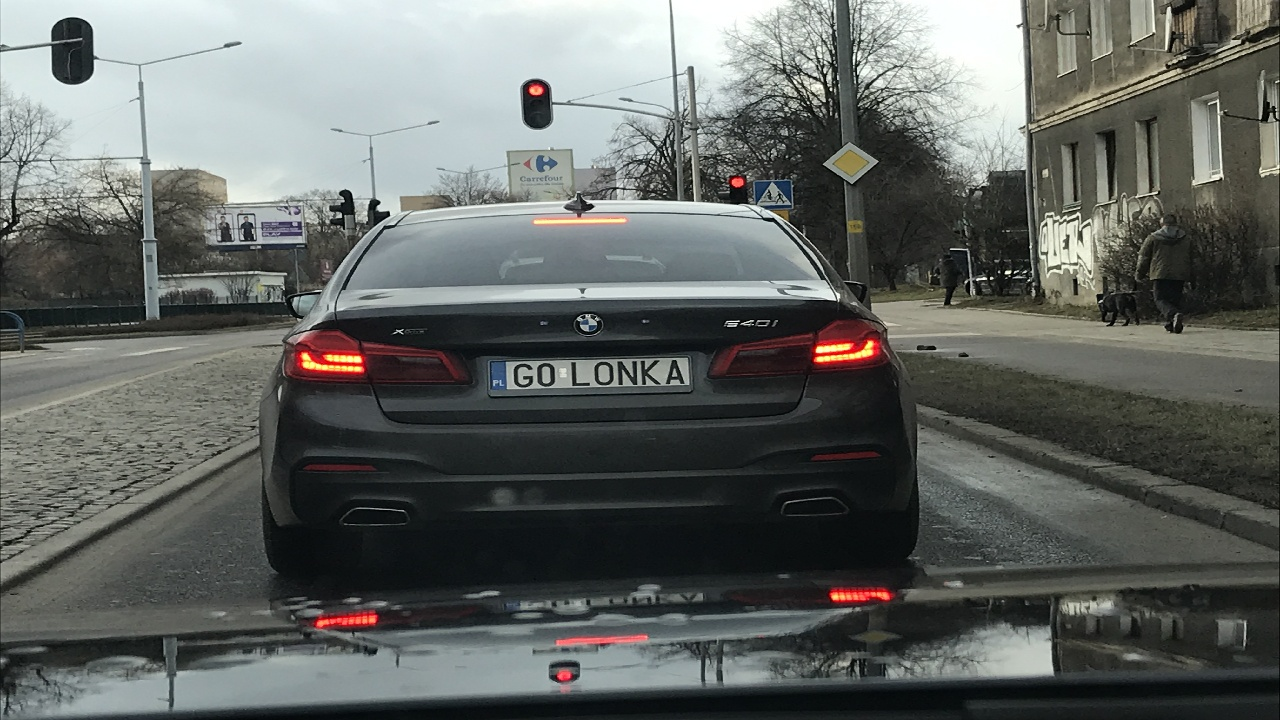D1: (823, 142, 879, 185)
D6b: (754, 180, 793, 208)
Red: (526, 82, 546, 124), (732, 176, 747, 204)
